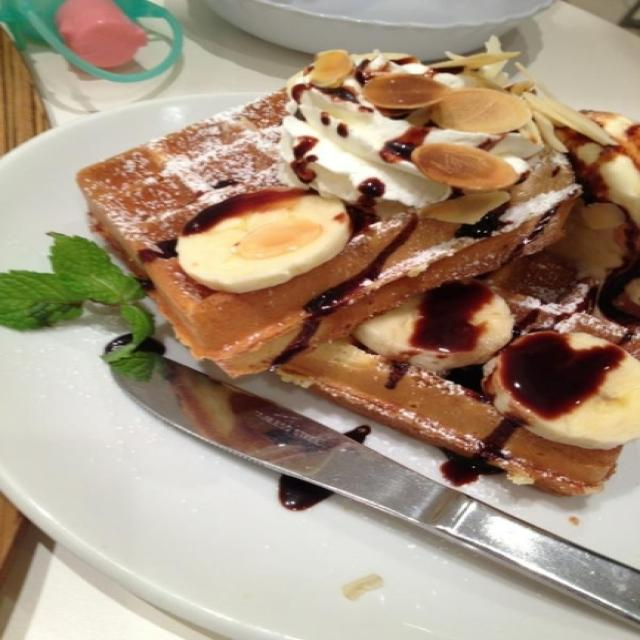炸货点心: (25, 29, 633, 589)
蛋糕甜品: (25, 29, 633, 589)
